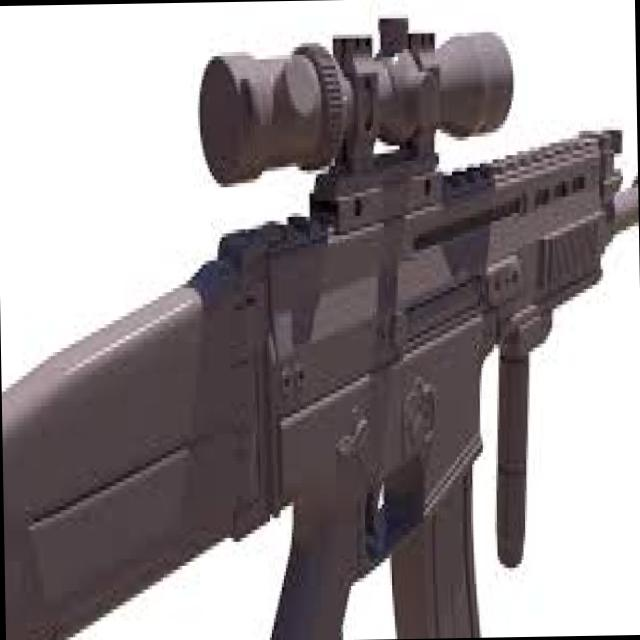Gun: (300, 357, 302, 379)
